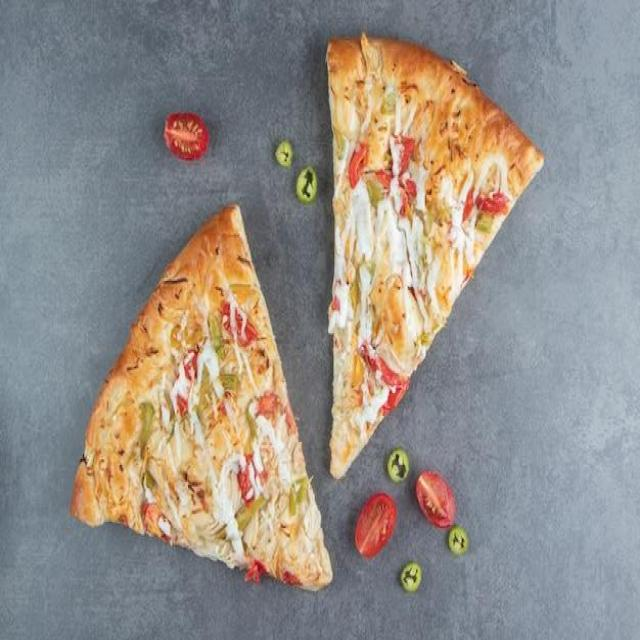pizza: (69, 205, 332, 605), (326, 35, 548, 480)
